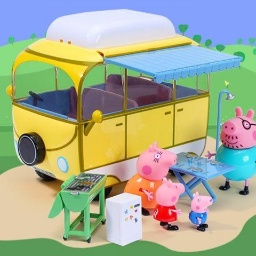Peppa: (153, 176, 185, 233)
